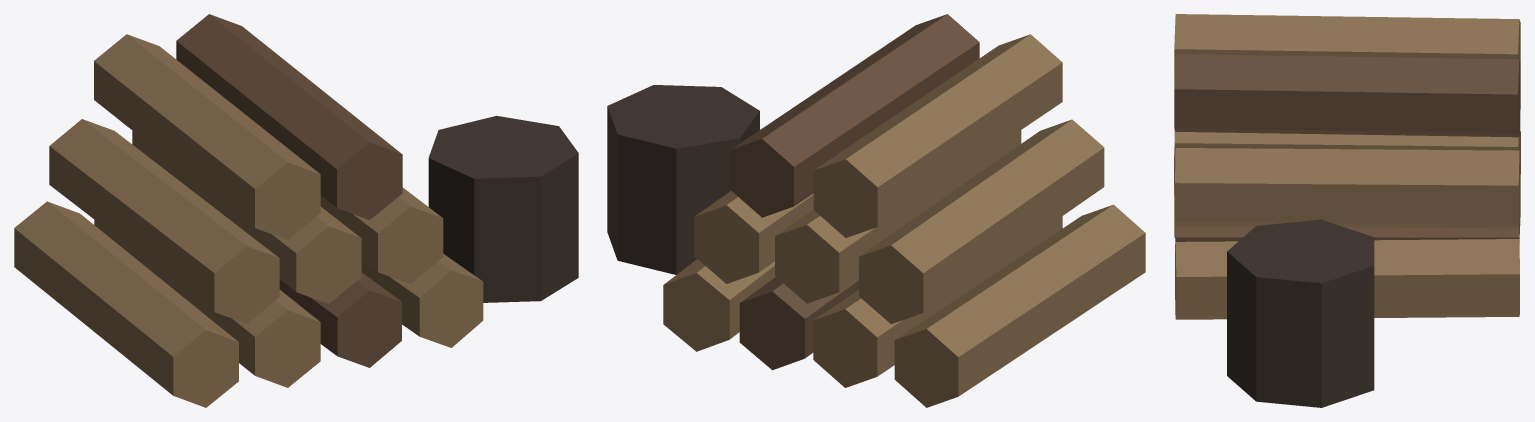
The model's file is woodpile.glb.
3 renders of one model, left to right at view 1: azimuth 30°, elevation 25°; view 2: azimuth 150°, elevation 25°; view 3: azimuth 270°, elevation 25°, orthographic.
Visible parts, largest first — view 1: chopping block, split log.004, split log.007, split log, split log.008, split log.005, split log.001, split log.006, split log.003, split log.002; view 2: split log, split log.007, split log.004, chopping block, split log.008, split log.005, split log.001, split log.006, split log.003, split log.002; view 3: split log.008, split log.006, chopping block, split log.003, split log.007, split log.005, split log.002.
Boxes of the visible parts, x1,y1,x2,y2 form: chopping block: [428, 115, 578, 302]; split log.004: [49, 119, 279, 323]; split log.007: [94, 34, 320, 239]; split log: [14, 201, 238, 407]; split log.008: [176, 14, 402, 219]; split log.005: [132, 130, 361, 303]; split log.001: [94, 220, 320, 387]; split log.006: [320, 187, 443, 283]; split log.003: [361, 254, 483, 347]; split log.002: [279, 272, 401, 367]; split log: [894, 204, 1145, 407]; split log.007: [813, 34, 1062, 237]; split log.004: [859, 119, 1104, 324]; chopping block: [607, 85, 759, 274]; split log.008: [730, 14, 979, 217]; split log.005: [775, 130, 1021, 303]; split log.001: [813, 216, 1062, 387]; split log.006: [694, 190, 813, 283]; split log.003: [663, 259, 775, 351]; split log.002: [739, 277, 858, 370]; split log.008: [1174, 54, 1520, 137]; split log.006: [1175, 148, 1519, 228]; chopping block: [1227, 219, 1374, 407]; split log.003: [1175, 239, 1519, 319]; split log.007: [1174, 14, 1520, 81]; split log.005: [1174, 118, 1520, 182]; split log.002: [1175, 223, 1519, 242].
Size of the model in its own units: 0.616 by 0.29 by 0.4037.
